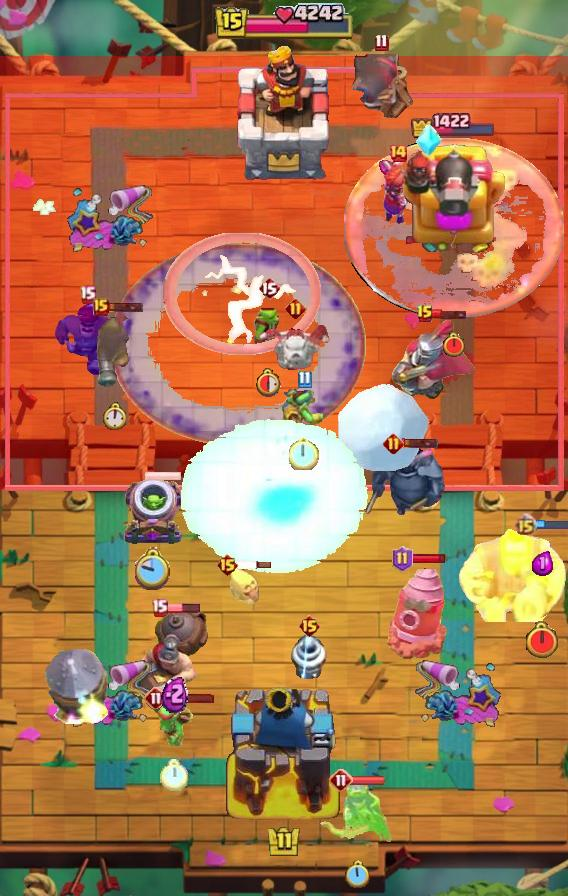barbarian-evolution: (163, 233, 321, 355)
barbarian-hut: (318, 781, 396, 849)
bat-evolution: (226, 562, 260, 606)
bomb-tower: (95, 311, 133, 389)
clock: (213, 3, 355, 43)
electro-spirit: (161, 675, 187, 713), (531, 551, 552, 576)
elixir: (136, 547, 173, 590), (524, 621, 560, 660), (289, 436, 319, 470), (160, 759, 188, 791), (256, 367, 283, 397), (344, 860, 370, 890), (102, 402, 126, 430), (442, 332, 466, 358)
emote: (165, 693, 215, 704), (107, 301, 145, 313), (402, 437, 439, 449), (145, 470, 182, 482), (432, 308, 468, 320), (165, 602, 201, 614), (409, 553, 446, 564), (350, 775, 386, 786), (534, 518, 568, 529), (236, 560, 272, 570)
giant-skeleton: (458, 528, 568, 622)
giant-snowball: (152, 701, 196, 749), (280, 386, 328, 428)
goblin-cage: (121, 477, 185, 547)
goblin-drill: (287, 633, 331, 683)
golemite: (365, 447, 449, 521)
king-tower: (223, 680, 345, 826), (230, 43, 338, 181)
magic-archer: (383, 564, 449, 662)
mega-knight: (177, 415, 374, 576)
mini-pekka: (257, 321, 333, 373)
pad_2: (415, 125, 441, 157)
phoenix-egg: (344, 138, 564, 317)
phoenix-small: (52, 300, 122, 378)
rocket: (110, 243, 366, 447)
royal-giant-evolution: (347, 54, 415, 124)
selected: (411, 112, 498, 140)
tesla-evolution: (376, 157, 420, 225)
text: (144, 686, 168, 710), (329, 768, 353, 792), (216, 553, 239, 577), (299, 614, 322, 638), (392, 546, 413, 572), (514, 512, 537, 535), (258, 276, 280, 300), (286, 297, 307, 319), (383, 434, 405, 455), (388, 143, 408, 163), (416, 304, 434, 324), (151, 598, 169, 617), (80, 285, 97, 303), (93, 298, 109, 316), (296, 371, 311, 389), (375, 33, 389, 51)
tower-bar: (399, 138, 507, 256)
wall-breaker: (336, 382, 430, 474)
wall-breaker-evolution: (392, 318, 478, 402)
wizard: (134, 604, 210, 722)
x-bow: (45, 646, 107, 724)
zap: (250, 304, 288, 350)
